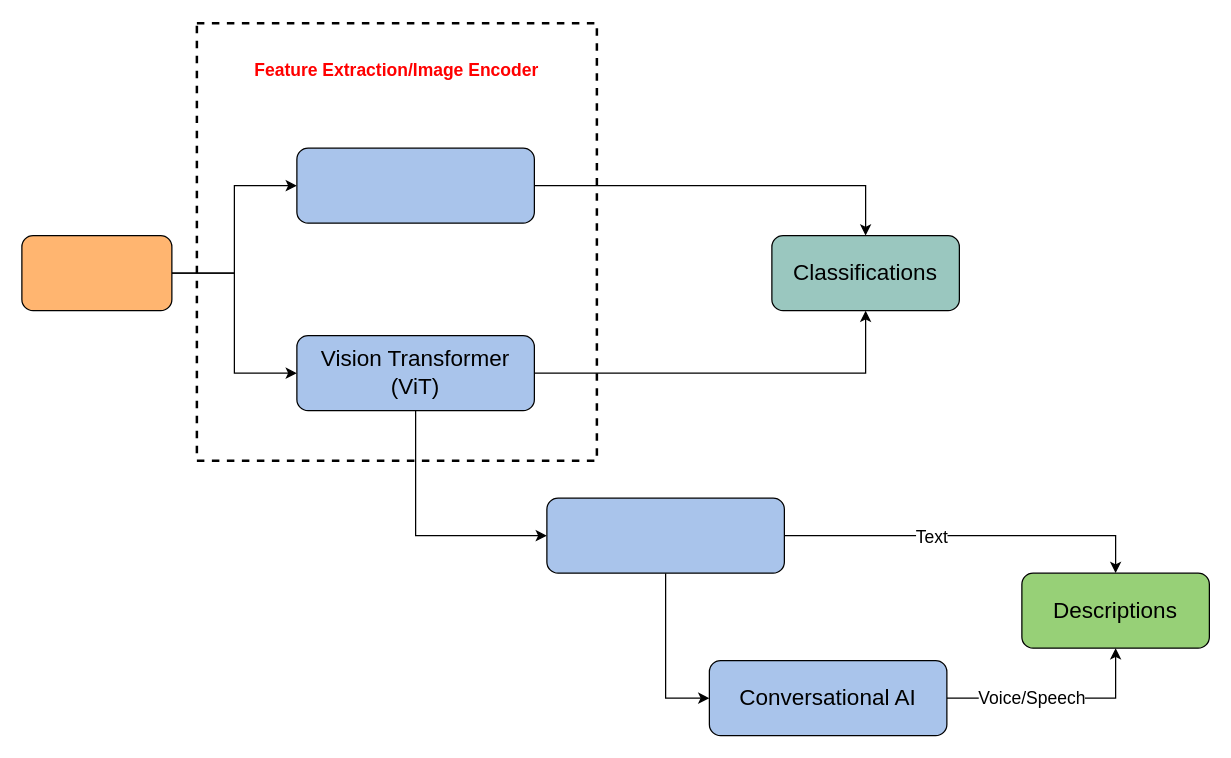
This 1231x758 diagram has some shape labels left out. The centre of each missing label's shape, as x and y in pixels:
Convolutional Neural Network (CNN): (x=415, y=185)
Image: (x=96, y=272)
Visual Language Models ( VLM): (x=665, y=535)
